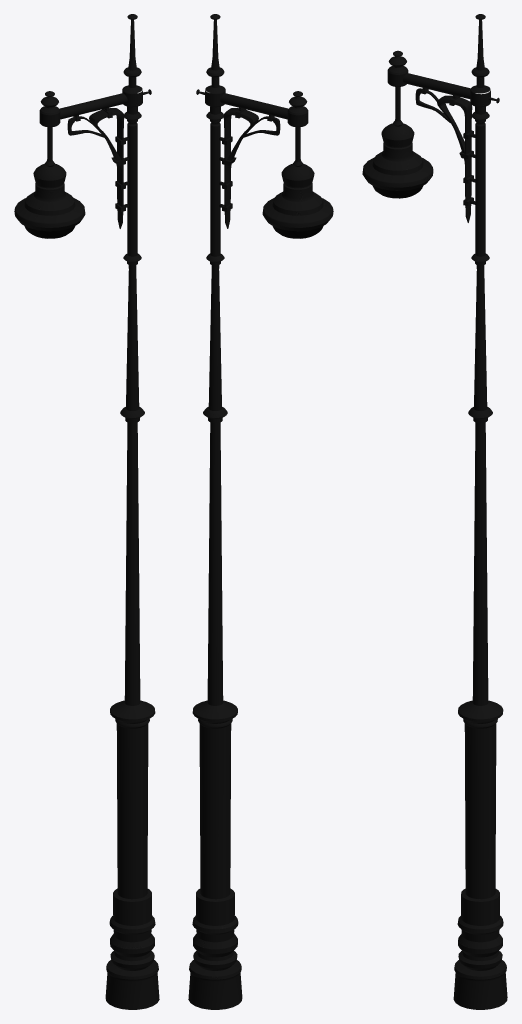
Rendered from farola_brazo.obj.
The picture shows the model from 3 angles, left to right: view 1: azimuth 30°, elevation 25°; view 2: azimuth 150°, elevation 25°; view 3: azimuth 330°, elevation 25°; orthographic projection.
Parts seen in each view (by area): view 1: farola_brazo; view 2: farola_brazo; view 3: farola_brazo.
Part boxes in pixels (x1,y1,x2,y2): farola_brazo: (14,14,159,1009); farola_brazo: (188,14,333,1009); farola_brazo: (362,14,507,1009).
Size of the model in its own units: 0.6561 by 4.5 by 0.2963.
